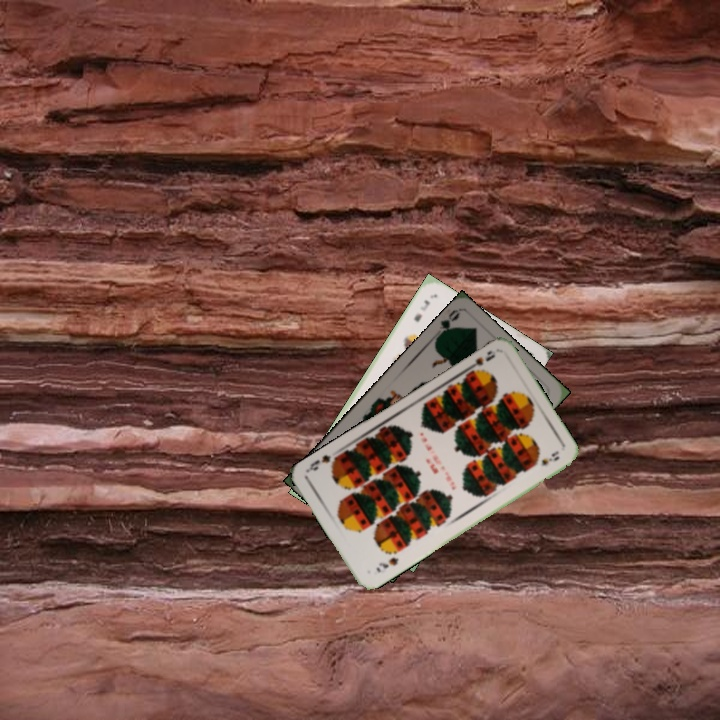E7: (410, 296, 433, 325)
GO: (431, 305, 462, 343)
S9: (462, 346, 497, 377), (372, 553, 401, 575)
